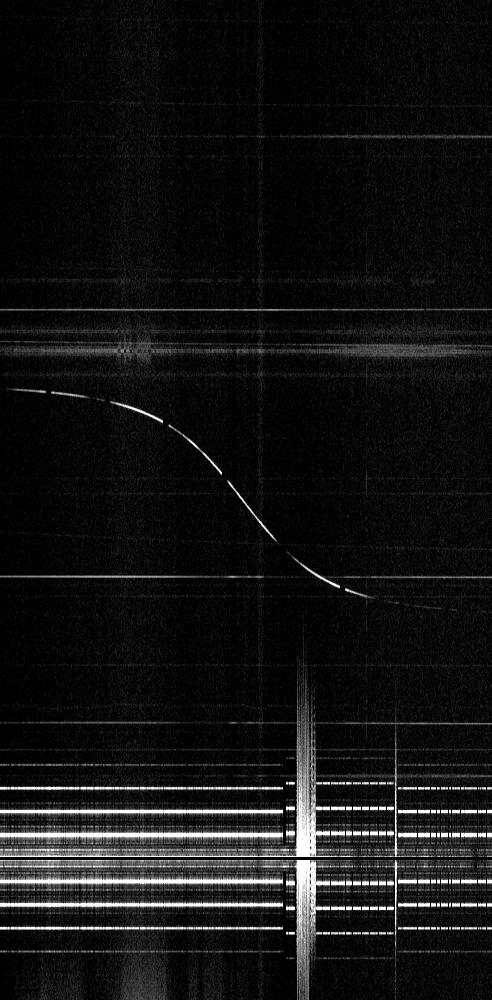signal: (0, 0, 491, 999)
